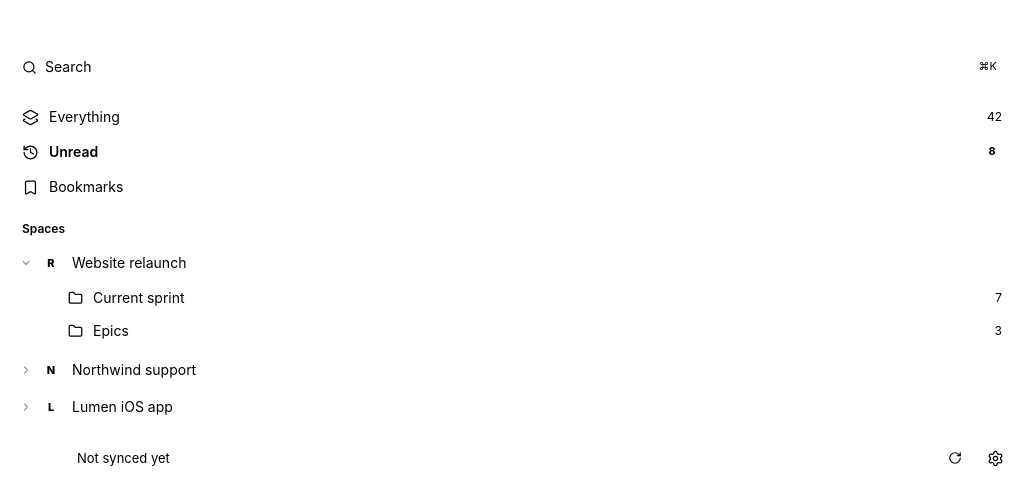
Test: Sidebar › filter list context menu › opens a menu named after the list with Rename, Icon and Color, Duplicate, Add to Home and Delete
Expected: the navigation bar "Spaces" is shown, left=12, top=220, right=1012, bottom=425
Right-click the button "Epics 3": (111, 331) left=58, top=315, right=1012, bottom=347
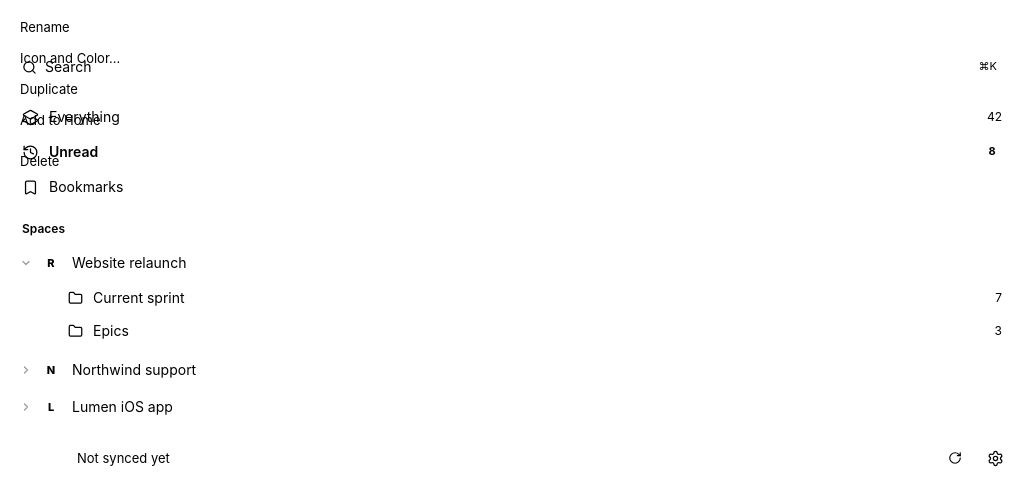
Expected: the menu named "Epics" is shown, left=6, top=6, right=206, bottom=182
